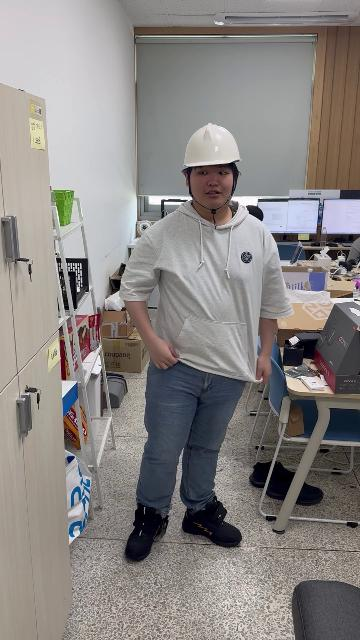helmet_worn: (180, 122, 243, 168)
shoe_not_worn: (251, 460, 321, 502), (249, 459, 284, 488)
shoe_worn: (182, 496, 242, 547), (124, 503, 168, 561)
vest_not_worn: (146, 212, 271, 386)
